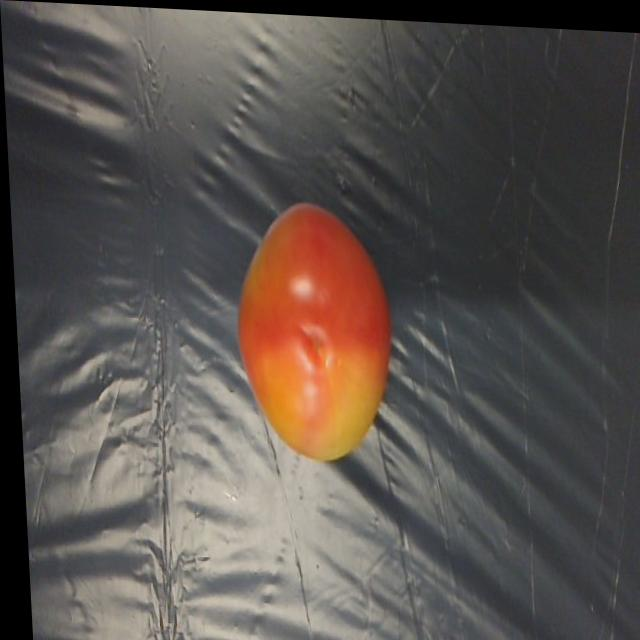sari: (212, 161, 415, 483)
